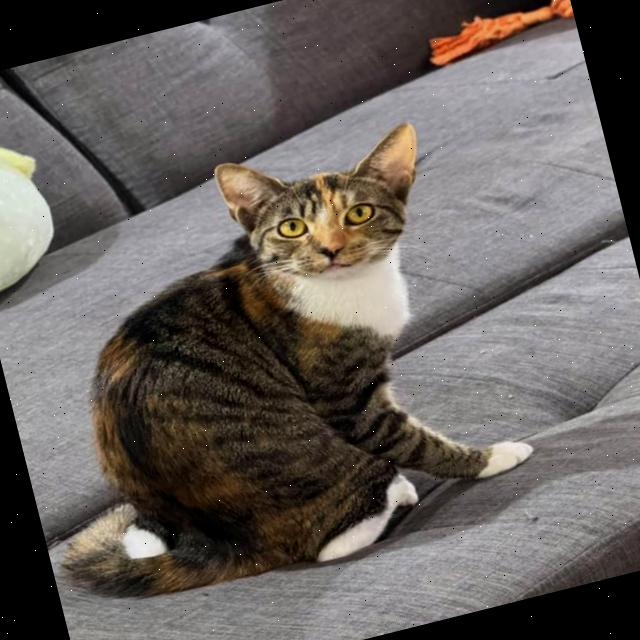domestic_short_hair_cat: (197, 106, 461, 310)
